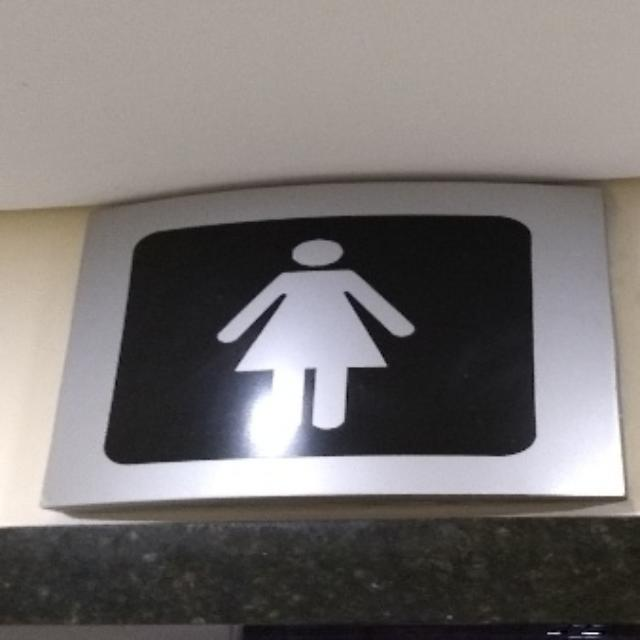wc nu: (42, 182, 623, 507)
